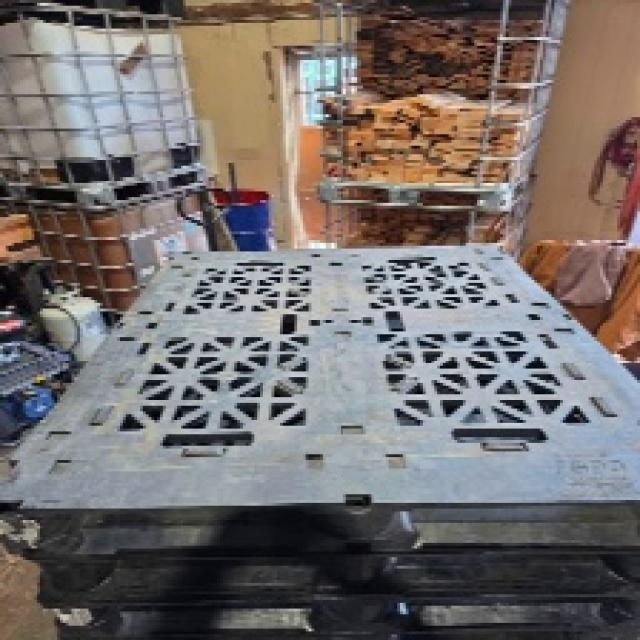igps: (0, 239, 640, 570), (15, 550, 640, 603), (28, 595, 640, 640)
